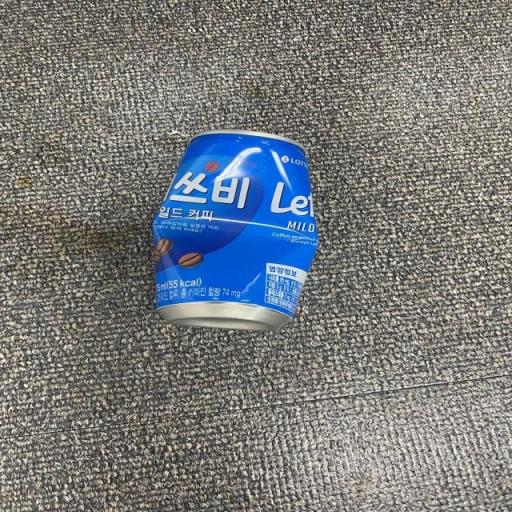metal: (121, 112, 358, 377)
